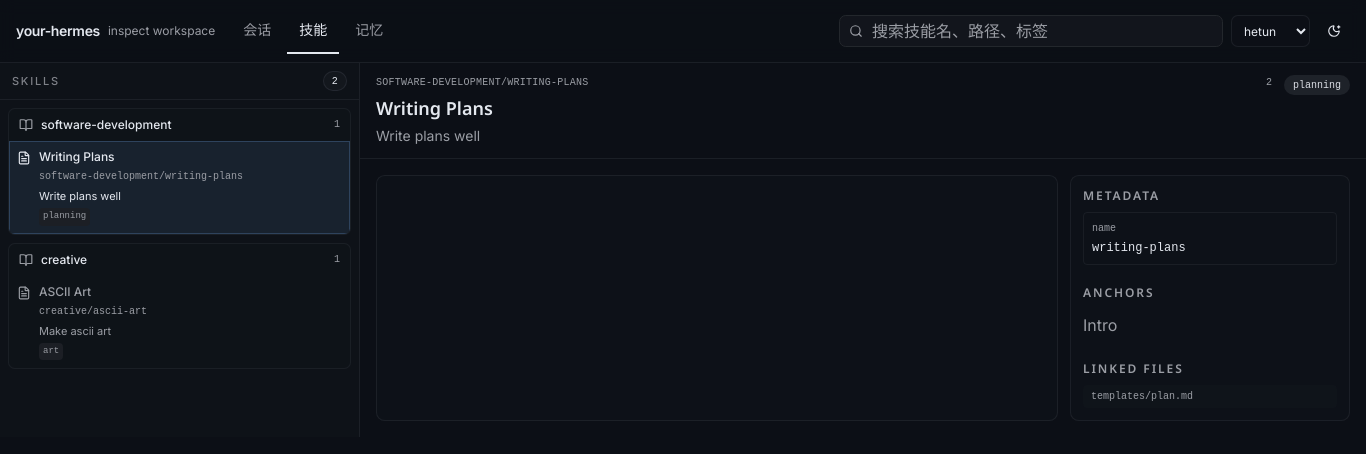
Test: SkillManagementView keeps list filtering available even when no skill is selected
Type "ascii" into the field labelled "搜索技能名、路径、标签" at [1031, 31], box [839, 15, 1223, 47]
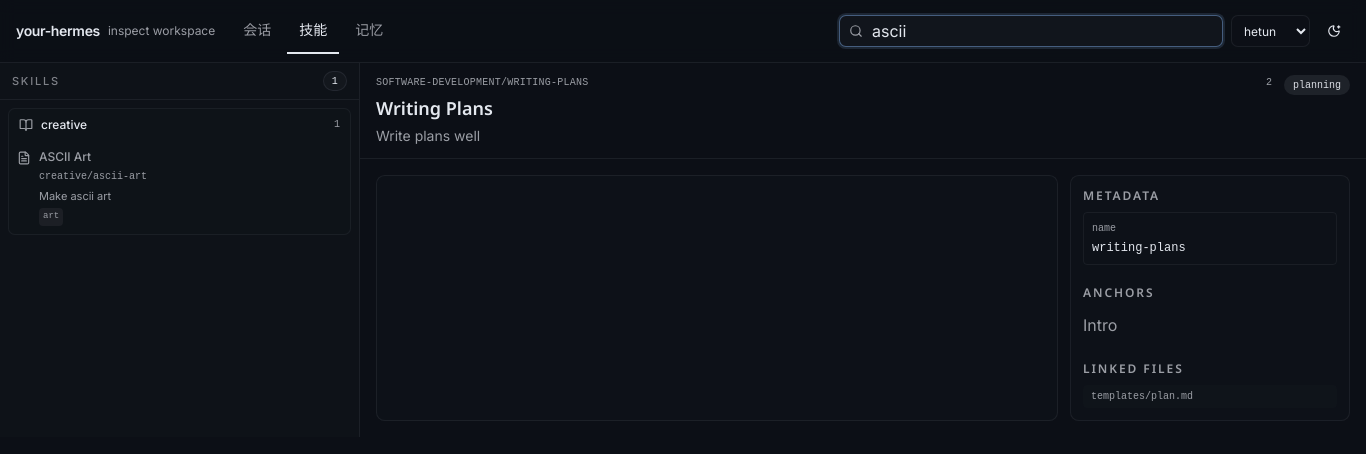
Expected: the button "ASCII Art creative/ascii-art Make ascii art art" is shown, [9, 141, 350, 234]
Expected: the field labelled "技能列表" no longer shows "Writing Plans"
